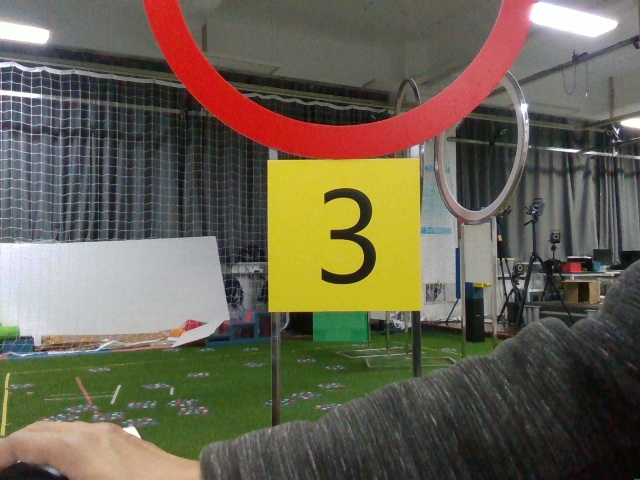target: (274, 163, 424, 310)
